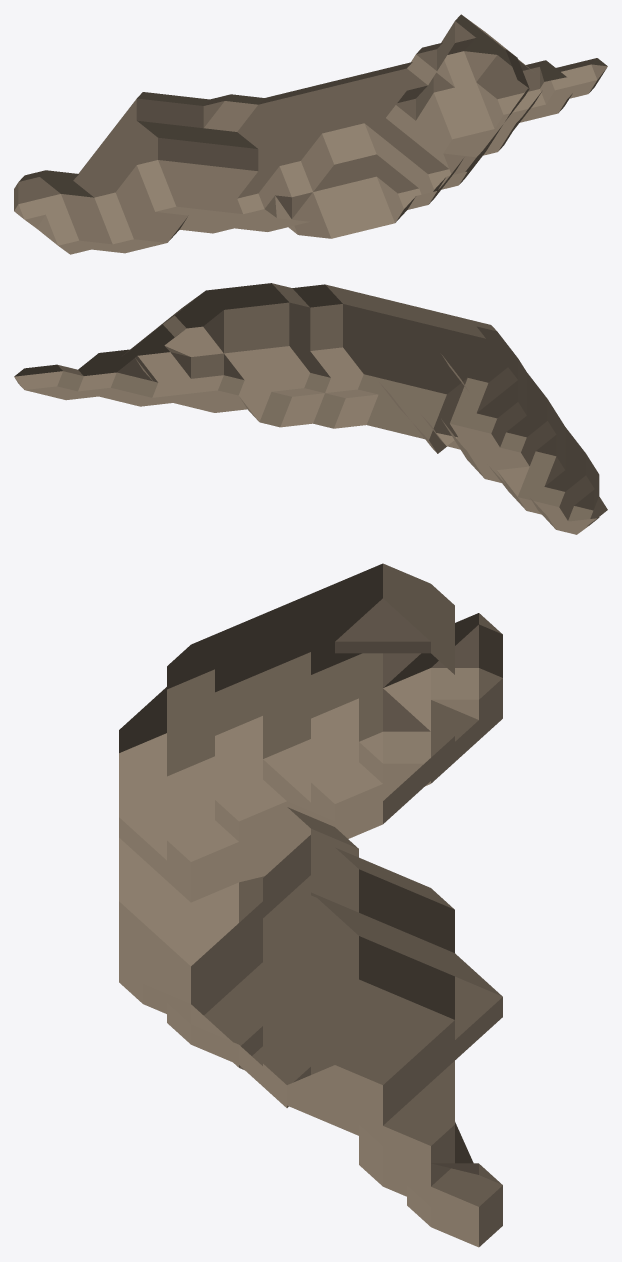
The model's file is region_0012_Cantd__anterior_commissure__dorsal_part_.glb.
The picture shows the model from 3 angles, top to bottom: view 1: azimuth 30°, elevation 25°; view 2: azimuth 150°, elevation 25°; view 3: azimuth 270°, elevation 25°; orthographic projection. The views are drawn at different scales.
Parts seen in each view (by area): view 1: world; view 2: world; view 3: world.
Boxes of the visible parts, left/top/right/bottom form: world: left=14, top=14, right=607, bottom=254; world: left=14, top=283, right=607, bottom=534; world: left=119, top=563, right=502, bottom=1247.
Size of the model in its own units: 0.224 by 0.048 by 0.064.
